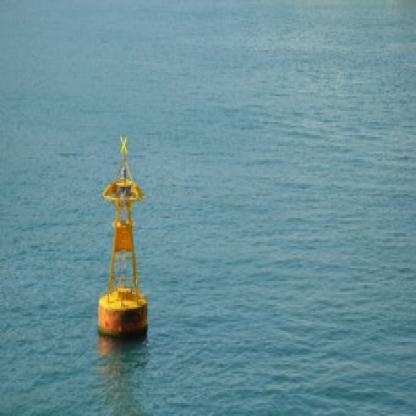buoy: (94, 124, 153, 344)
